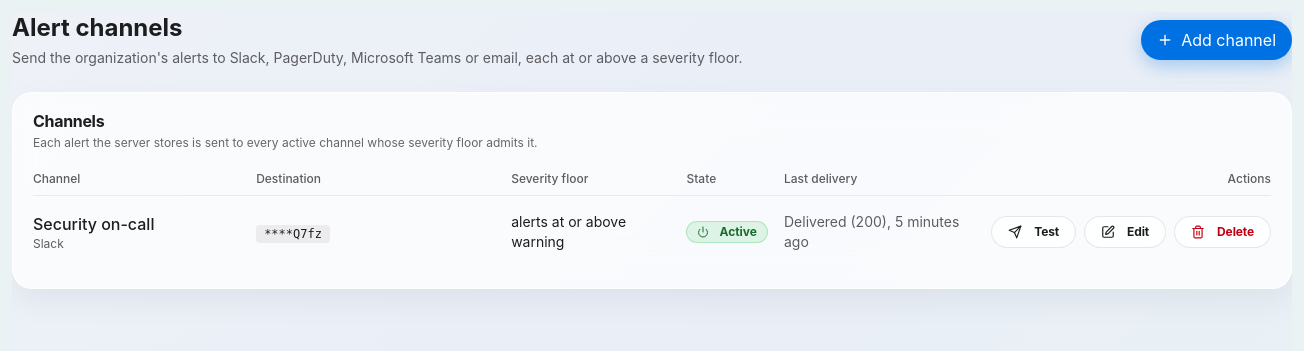
AlertChannelsPage test and delete › shows Delivered (200) when the test message was delivered
Expected: the list item "Security on-call" is shown, [33, 214, 154, 234]
Click the button "Test" at (1034, 232), box [991, 216, 1076, 248]
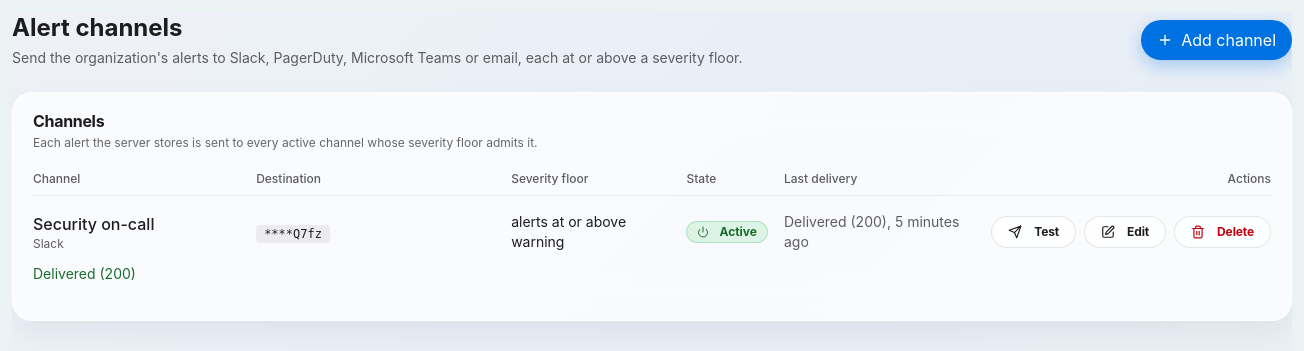
Expected: the list item "Security on-call" is shown, [33, 214, 154, 234]
Now the message with test id "alert-channel-test-outcome" reads "Delivered (200)", box [33, 265, 136, 282]
